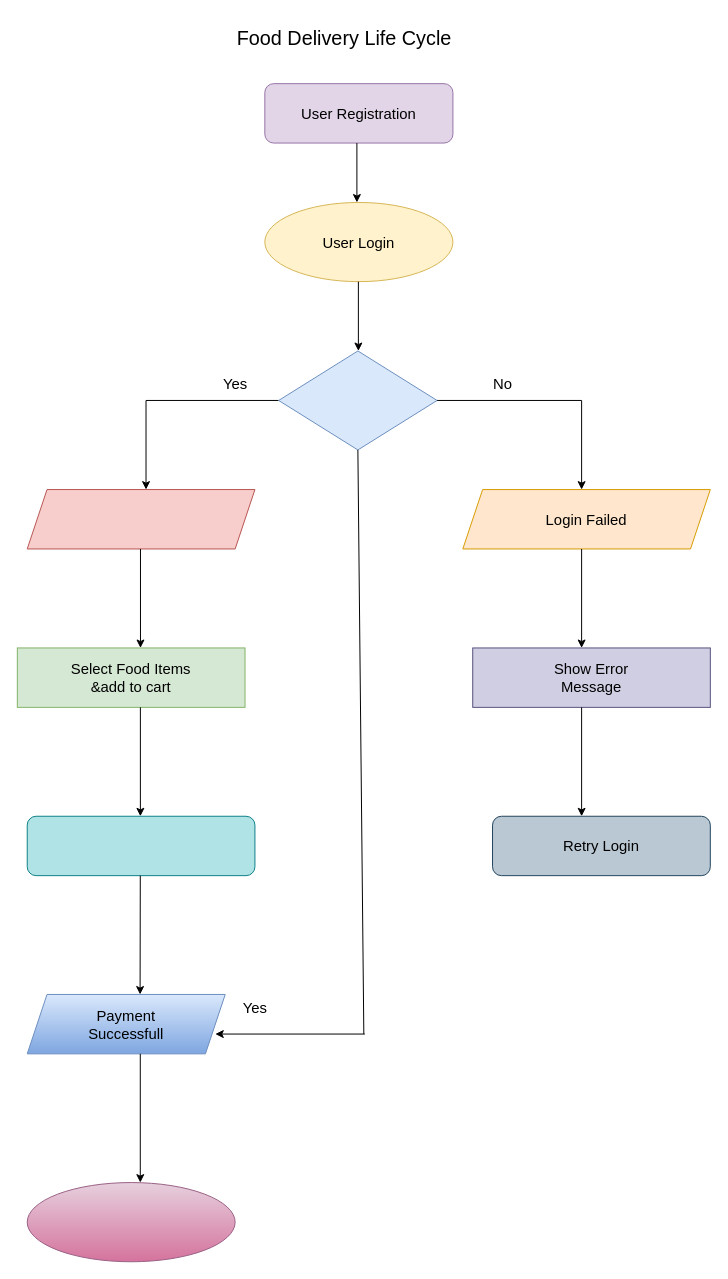
The diagram is 728 pixels wide and 1279 high, and some of its shapes have lost their labels. Each missing label, with the centre of its shape:
Browse Restaurant and Menus: [140,519]
Log In Successfully: [357,400]
Order Delivery: [130,1222]
Place Order: [140,845]
